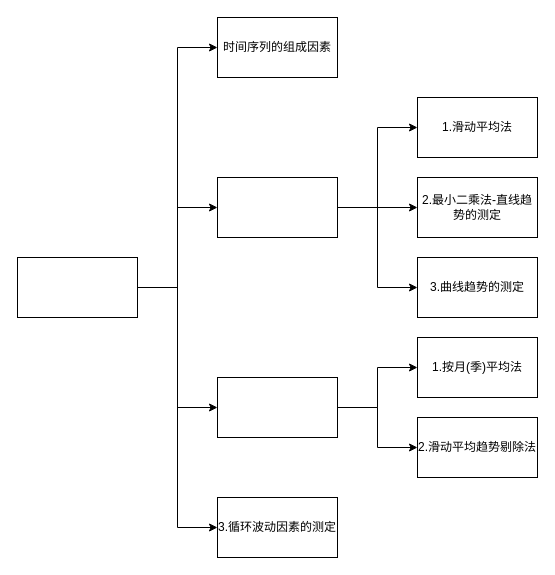
This 555x575 diagram has some shape labels left out. The shapes that lost their labels are listed below. From the top down, each one's box as (x1, y1, x2, y2) in pixels, then its label:
(216, 176, 338, 238): 1.长期趋势的测定
(16, 256, 138, 318): 时间序列分析
(216, 376, 338, 438): 2.季节变动因素的测定
